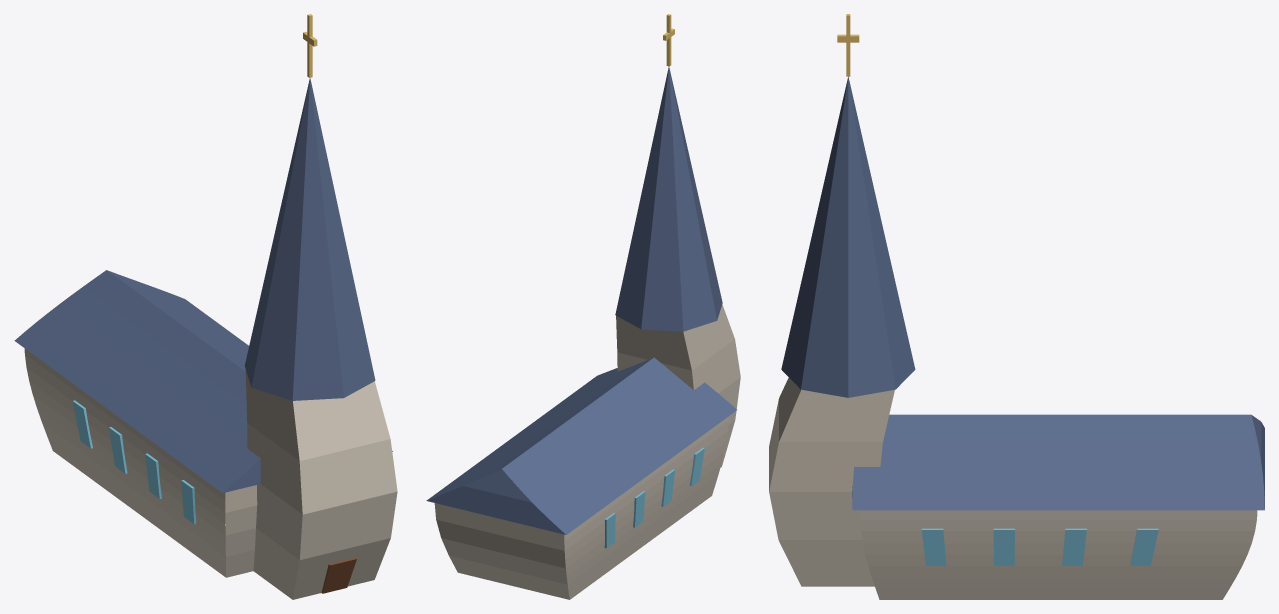
Rendered from church.glb.
The picture shows the model from 3 angles, left to right: view 1: azimuth 30°, elevation 25°; view 2: azimuth 150°, elevation 25°; view 3: azimuth 270°, elevation 25°; orthographic projection. The views are drawn at different scales.
Parts seen in each view (by area): view 1: church_roof_slate, church_stone, church_window, church_door; view 2: church_roof_slate, church_stone, church_window; view 3: church_roof_slate, church_stone, church_window.
Part boxes in pixels (x1,y1,x2,y2): church_roof_slate: (14,78,392,492); church_stone: (24,348,397,599); church_window: (72,400,196,524); church_door: (321,557,356,593); church_roof_slate: (426,66,736,534); church_stone: (434,304,740,599); church_window: (604,447,704,548); church_roof_slate: (781,76,1264,510); church_stone: (769,377,1257,599); church_window: (921,528,1158,565).
Size of the model in its own units: 13.03 by 40.62 by 33.06.
